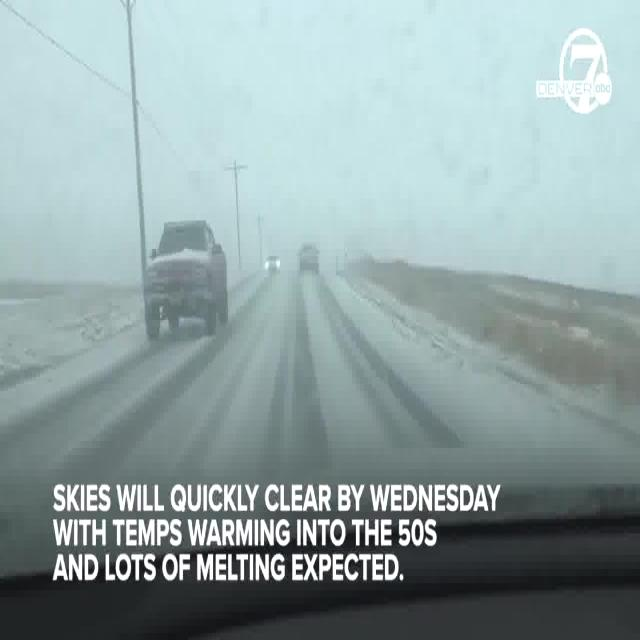Truck: (127, 168, 236, 354), (299, 217, 329, 279), (266, 235, 280, 280)
